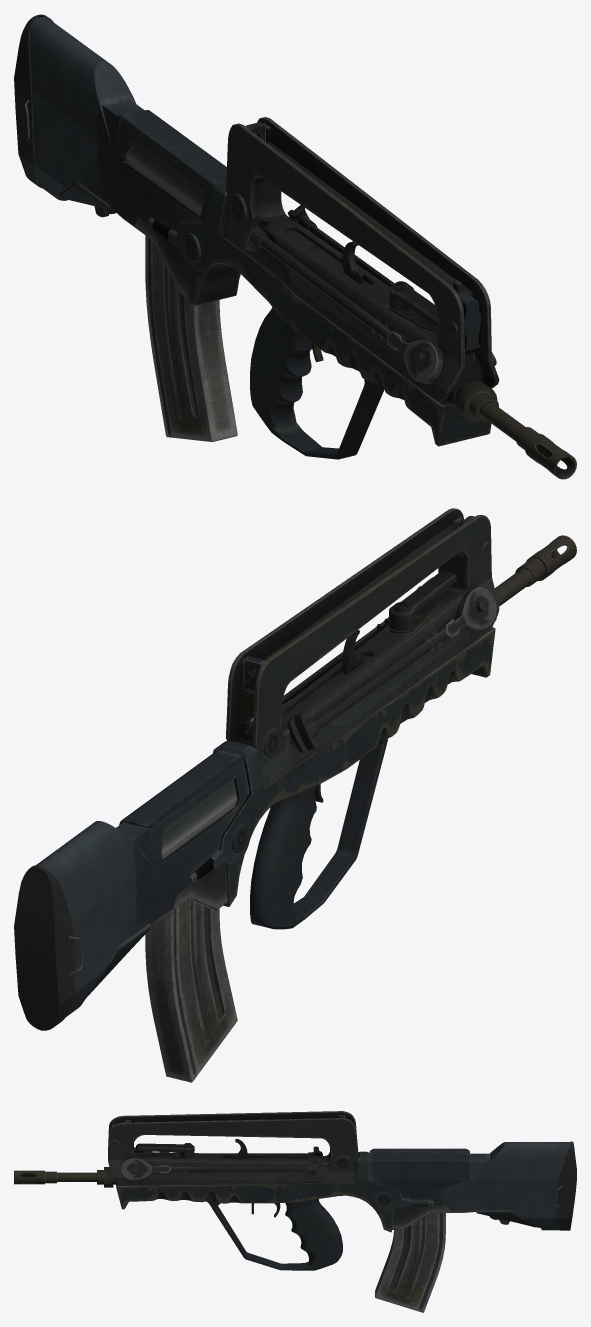
Rendered from famas.glb.
The picture shows the model from 3 angles, top to bottom: view 1: azimuth 30°, elevation 25°; view 2: azimuth 150°, elevation 25°; view 3: azimuth 270°, elevation 25°; orthographic projection. The views are drawn at different scales.
Visible parts, largest first — view 1: famas; view 2: famas; view 3: famas.
Part boxes in pixels (x1=…): famas: x1=14, y1=14, x2=576, y2=479; famas: x1=14, y1=508, x2=576, y2=1082; famas: x1=14, y1=1111, x2=576, y2=1312.
Size of the model in its own units: 2.88 by 13.44 by 35.17.
Materials: 1 (1 with a texture image).
